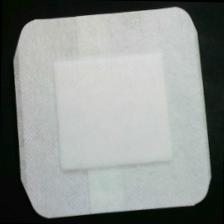Dressing: (8, 3, 219, 224)
